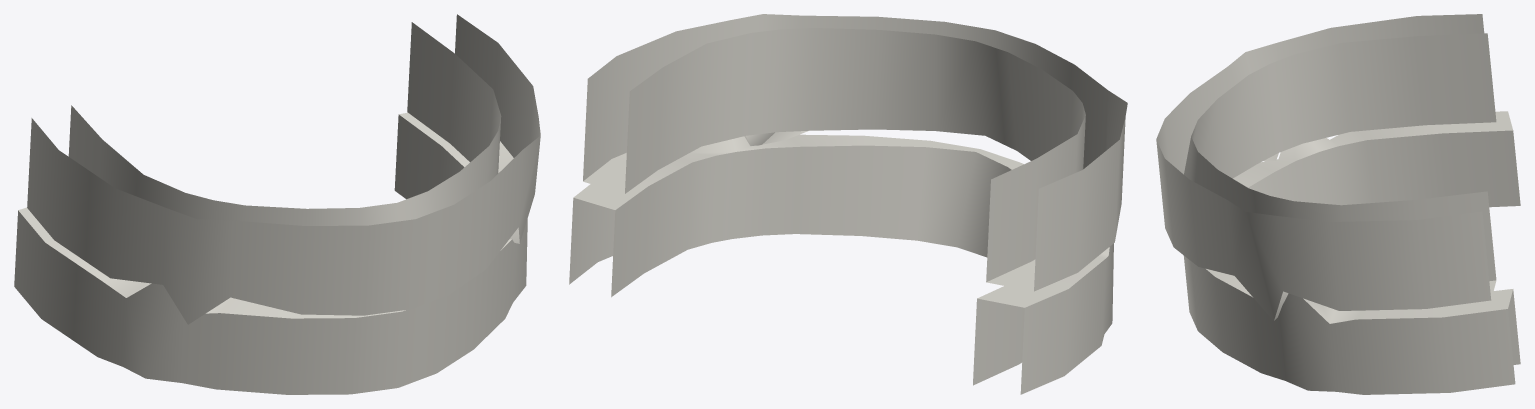
File: Yuji_01_tooth.fbx
The picture shows the model from 3 angles, left to right: view 1: azimuth 30°, elevation 25°; view 2: azimuth 150°, elevation 25°; view 3: azimuth 270°, elevation 25°; orthographic projection. The views are drawn at different scales.
Parts seen in each view (by area): view 1: Tooth; view 2: Tooth; view 3: Tooth.
Part boxes in pixels (x1=…): Tooth: x1=14, y1=14, x2=540, y2=394; Tooth: x1=569, y1=14, x2=1127, y2=394; Tooth: x1=1156, y1=14, x2=1520, y2=394.
Size of the model in its own units: 4.81 by 2.19 by 3.63.
1 material, 1 textured.
